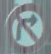Don't turn right: (4, 4, 49, 52)
